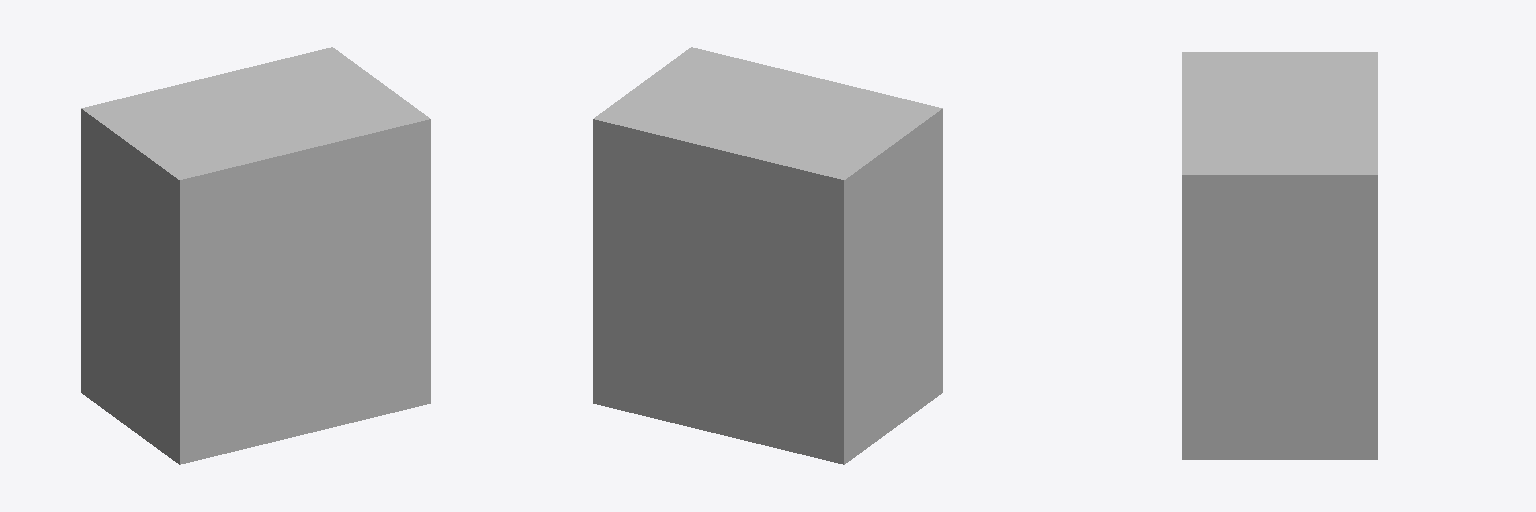
The model's file is Stamp_Only_notexture.obj.
The picture shows the model from 3 angles: view 1: azimuth 30°, elevation 25°; view 2: azimuth 150°, elevation 25°; view 3: azimuth 270°, elevation 25°; orthographic projection.
Parts seen in each view (by area): view 1: default; view 2: default; view 3: default.
Part boxes in pixels (x1,y1,x2,y2): default: (81,47,430,464); default: (593,47,942,464); default: (1182,52,1377,459).
Size of the model in its own units: 25.27 by 27.29 by 17.1.